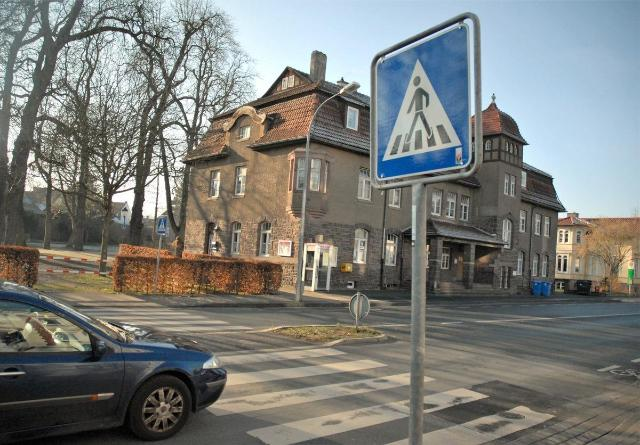crosswalk-sign: (372, 22, 475, 186), (157, 218, 168, 237)
